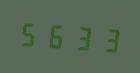five: (18, 16, 42, 51)
six: (43, 18, 67, 52)
three: (68, 19, 92, 54), (93, 21, 117, 56)
